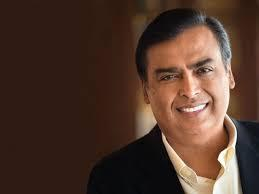Persons: (129, 7, 241, 137)
